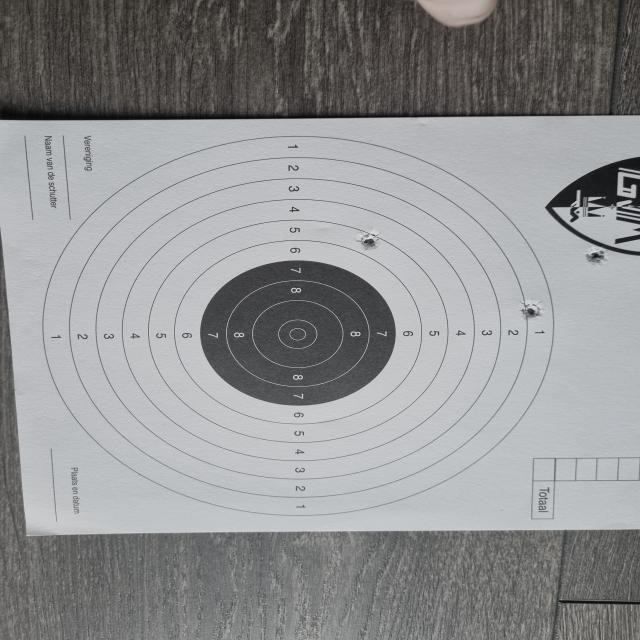0: (584, 246, 608, 266)
2: (519, 302, 544, 320)
5: (360, 232, 382, 252)
Target: (41, 135, 554, 518)
black_contour: (199, 260, 396, 407)
